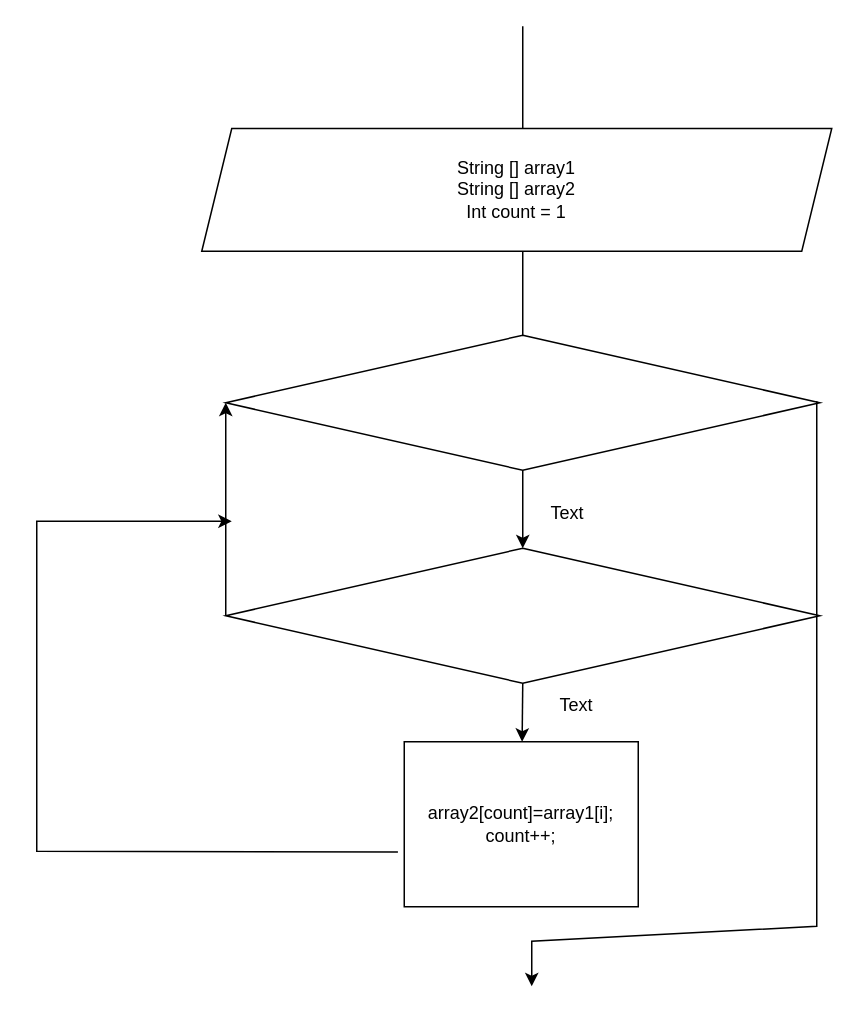
The diagram is 858 pixels wide and 1025 high, and some of its shapes have lost their labels. Each missing label, with the centre of its shape:
for (int i = 0; i<array1.Lenght; i++): (x=522, y=402)
if (array1[i].Lenght <=3): (x=522, y=615)
